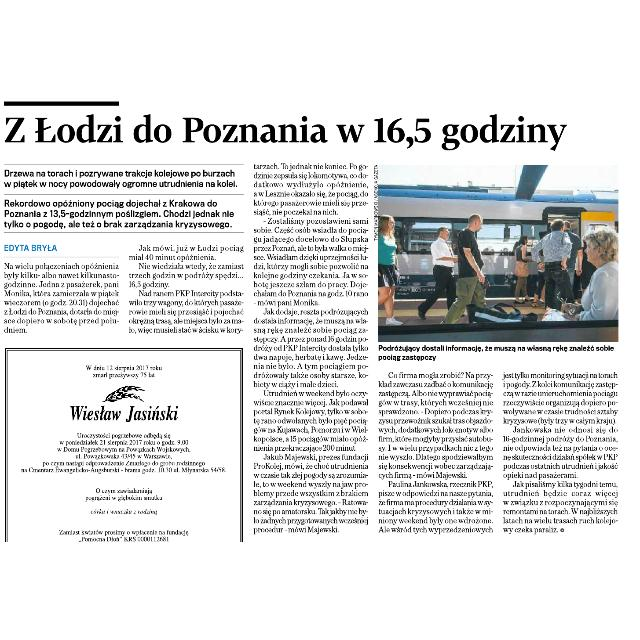author: (2, 240, 60, 254)
body: (248, 162, 372, 536), (499, 364, 625, 536), (378, 365, 497, 535), (124, 238, 246, 336), (4, 259, 122, 335)
caption: (377, 341, 618, 362)
image: (376, 180, 622, 344)
lead: (2, 166, 238, 230)
title: (2, 110, 574, 152)
